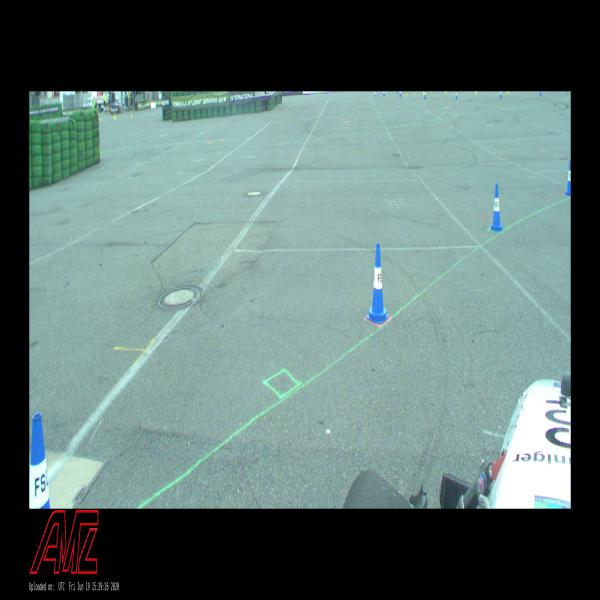blue_cone: (29, 412, 50, 509), (366, 243, 389, 324), (490, 184, 503, 231), (565, 160, 571, 195), (456, 91, 458, 100), (424, 91, 426, 99), (539, 92, 542, 97), (500, 92, 502, 98), (374, 92, 376, 97), (400, 91, 401, 97), (383, 91, 384, 96), (376, 92, 377, 97), (384, 91, 385, 96)
